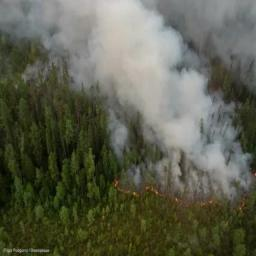Heavy smoke: (40, 0, 208, 130)
Low smoke: (119, 132, 249, 180)
Small fire: (117, 182, 146, 201), (152, 185, 163, 199)
